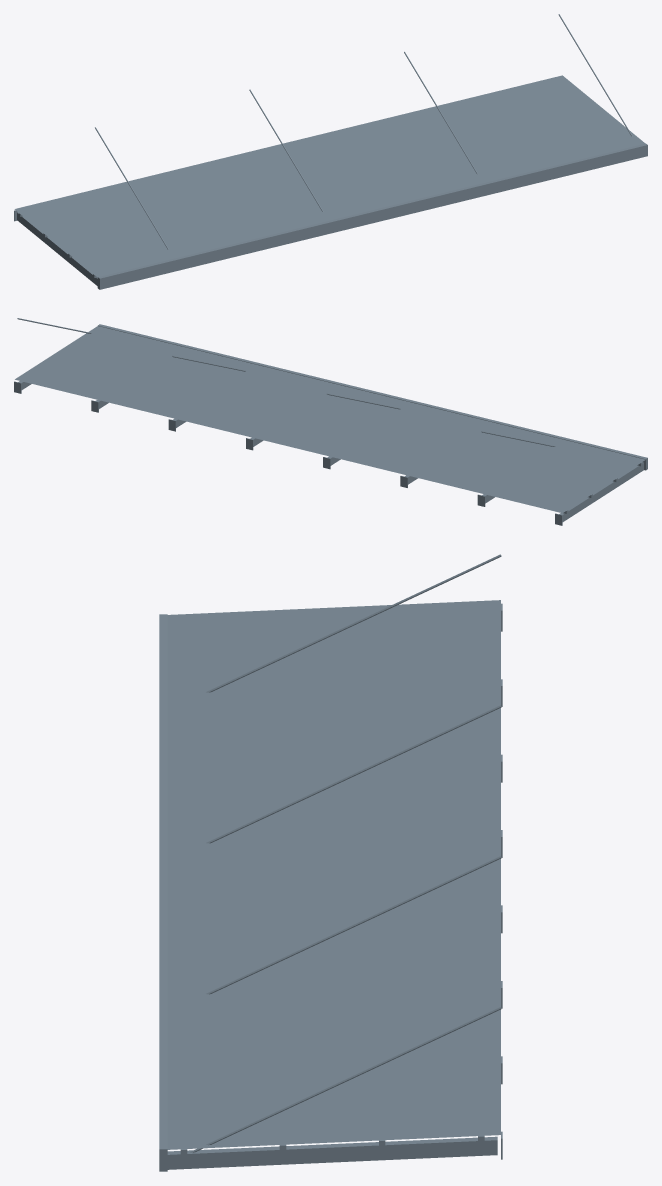
File: kanopi.glb
The picture shows the model from 3 angles, top to bottom: view 1: azimuth 30°, elevation 25°; view 2: azimuth 150°, elevation 25°; view 3: azimuth 270°, elevation 25°; orthographic projection. The views are drawn at different scales.
Visible parts, largest first — view 1: kanopi; view 2: kanopi; view 3: kanopi.
Boxes of the visible parts, left/top/right/bottom form: kanopi: left=14, top=14, right=647, bottom=289; kanopi: left=14, top=318, right=647, bottom=525; kanopi: left=159, top=554, right=502, bottom=1171.
Size of the model in its own units: 7.67 by 1.08 by 2.08.
